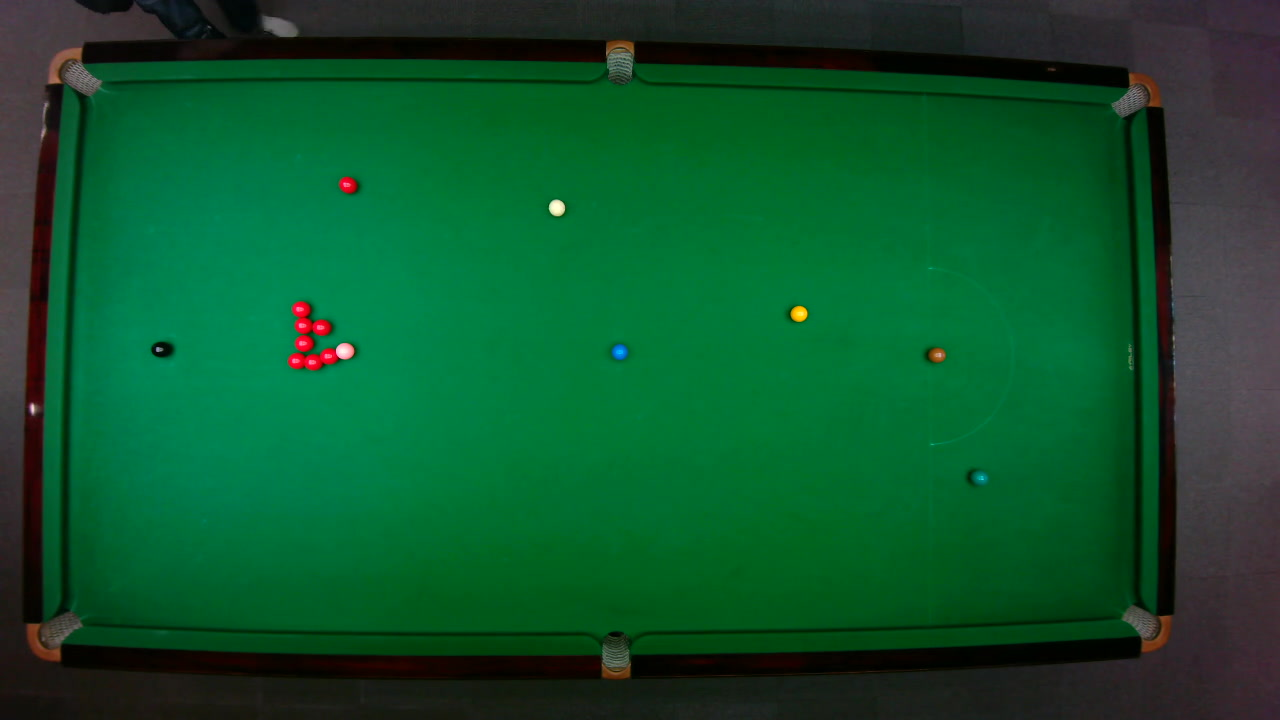bag: (24, 609, 83, 661), (45, 46, 102, 96), (1119, 603, 1172, 652), (1108, 71, 1161, 118), (600, 629, 629, 680), (605, 38, 633, 85)
black: (149, 340, 171, 358)
blue: (610, 342, 628, 360)
brown: (926, 346, 946, 362)
green: (969, 468, 989, 486)
pink: (334, 341, 355, 360)
red: (337, 175, 358, 194), (302, 352, 323, 370), (310, 317, 331, 335), (290, 299, 311, 317), (318, 346, 337, 365), (293, 334, 313, 352), (286, 351, 305, 369), (292, 317, 312, 334)
white: (546, 197, 566, 217)
yellow: (788, 304, 808, 322)
zone: (927, 265, 1013, 445)
